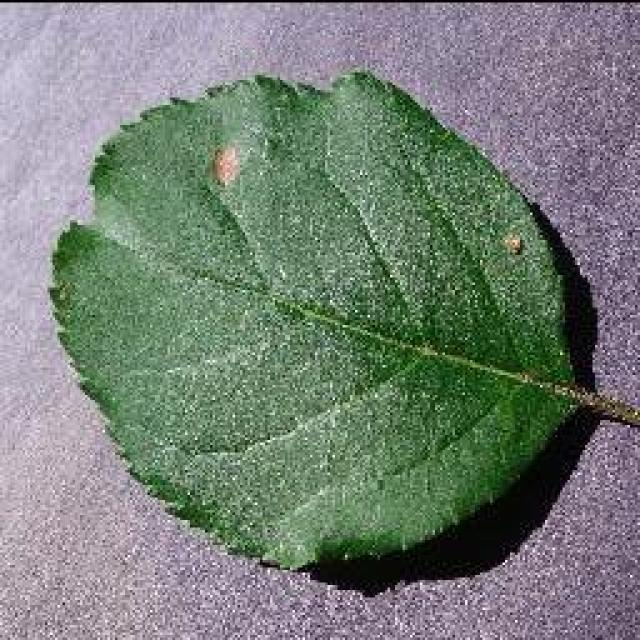black_rot: (199, 124, 253, 195)
